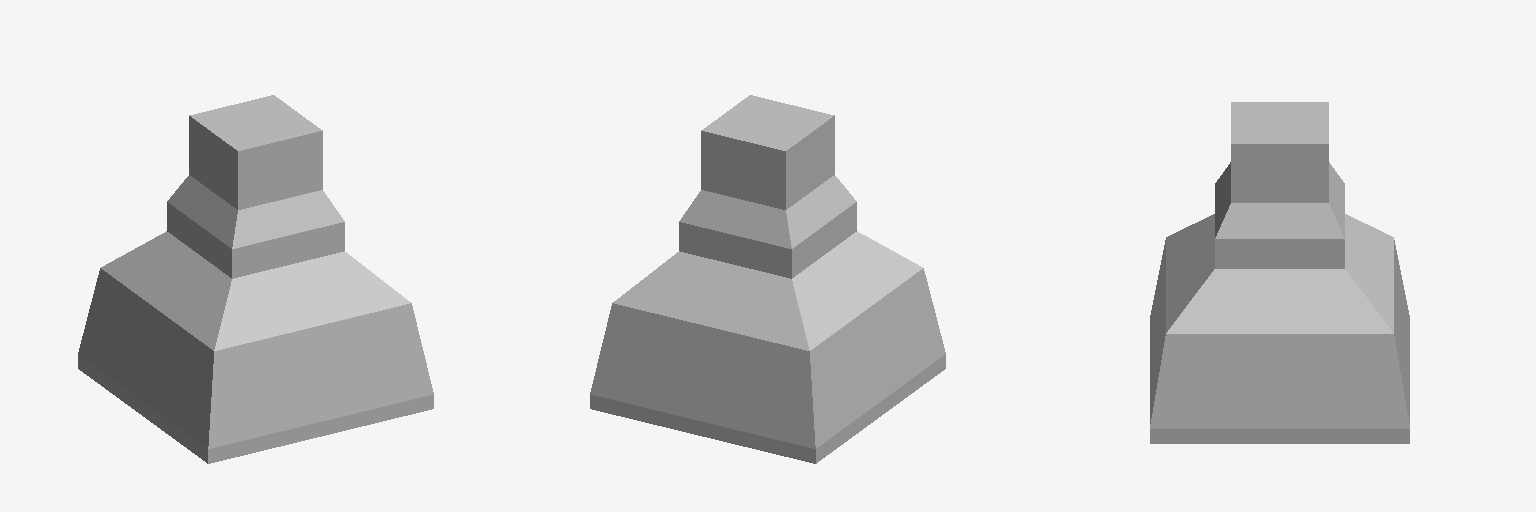
File: cannon_base1.obj
3 views of the same model, side by side, from view 1: azimuth 30°, elevation 25°; view 2: azimuth 150°, elevation 25°; view 3: azimuth 270°, elevation 25° (orthographic).
Parts seen in each view (by area): view 1: cube; view 2: cube; view 3: cube.
Boxes of the visible parts, <box> form: cube: <box>78,95,433,463</box>; cube: <box>590,95,945,463</box>; cube: <box>1150,102,1409,443</box>.
Bounding box in the file's own units: 1 × 1.12 × 1.